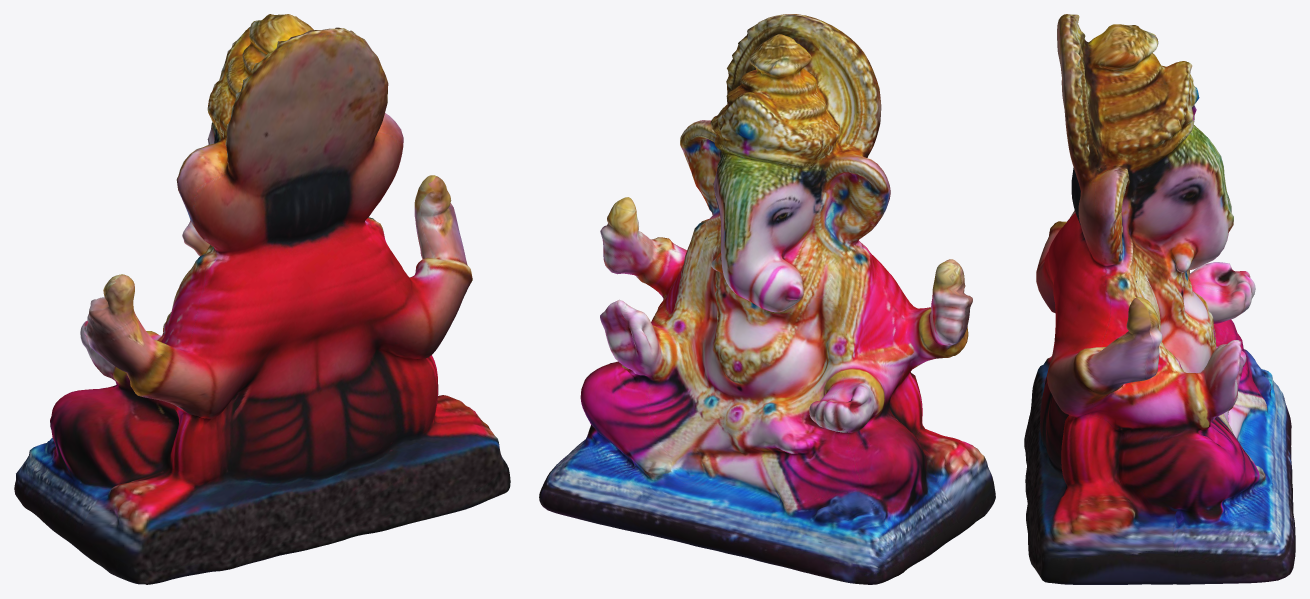
3 renders of one model, left to right at view 1: azimuth 30°, elevation 25°; view 2: azimuth 150°, elevation 25°; view 3: azimuth 270°, elevation 25°, orthographic. The views are drawn at different scales.
Visible parts, largest first — view 1: Ganesh_Color_End_LR; view 2: Ganesh_Color_End_LR; view 3: Ganesh_Color_End_LR.
Boxes of the visible parts, x1=… form: Ganesh_Color_End_LR: x1=14, y1=14, x2=510, y2=584; Ganesh_Color_End_LR: x1=539, y1=14, x2=995, y2=584; Ganesh_Color_End_LR: x1=1024, y1=14, x2=1295, y2=584.
Size of the model in its own units: 25.91 by 31.51 by 16.26.
1 material, 1 textured.
